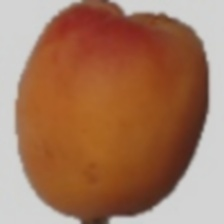apricot: (2, 10, 198, 185)
